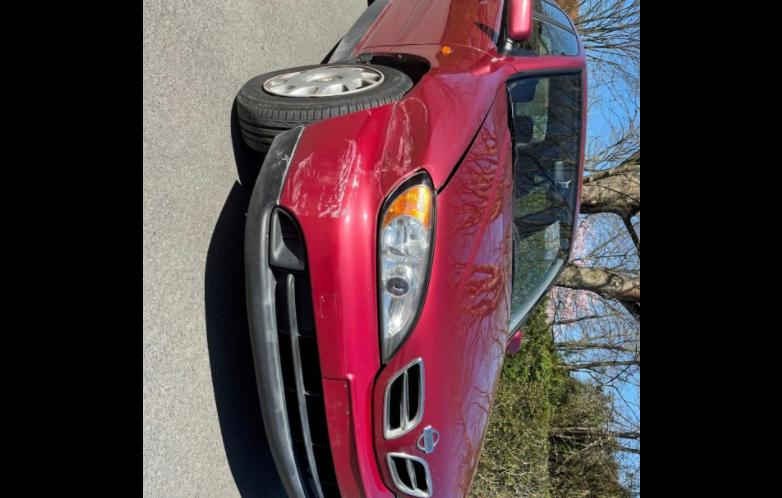Broken part: (435, 99, 495, 197), (368, 356, 397, 498)
Dent: (358, 95, 431, 197)
Flaking: (343, 383, 347, 388), (345, 410, 349, 414), (337, 402, 341, 405)
Missing part: (322, 381, 361, 498)
Paint chip: (364, 109, 370, 116)
Scratch: (395, 97, 427, 172), (330, 139, 356, 218), (340, 155, 365, 217), (291, 151, 315, 203), (287, 193, 307, 215), (367, 166, 402, 175), (319, 206, 336, 217), (317, 185, 324, 211), (278, 155, 290, 165), (286, 179, 289, 201), (312, 170, 315, 177), (305, 210, 308, 216), (277, 152, 281, 156), (316, 173, 319, 178)
